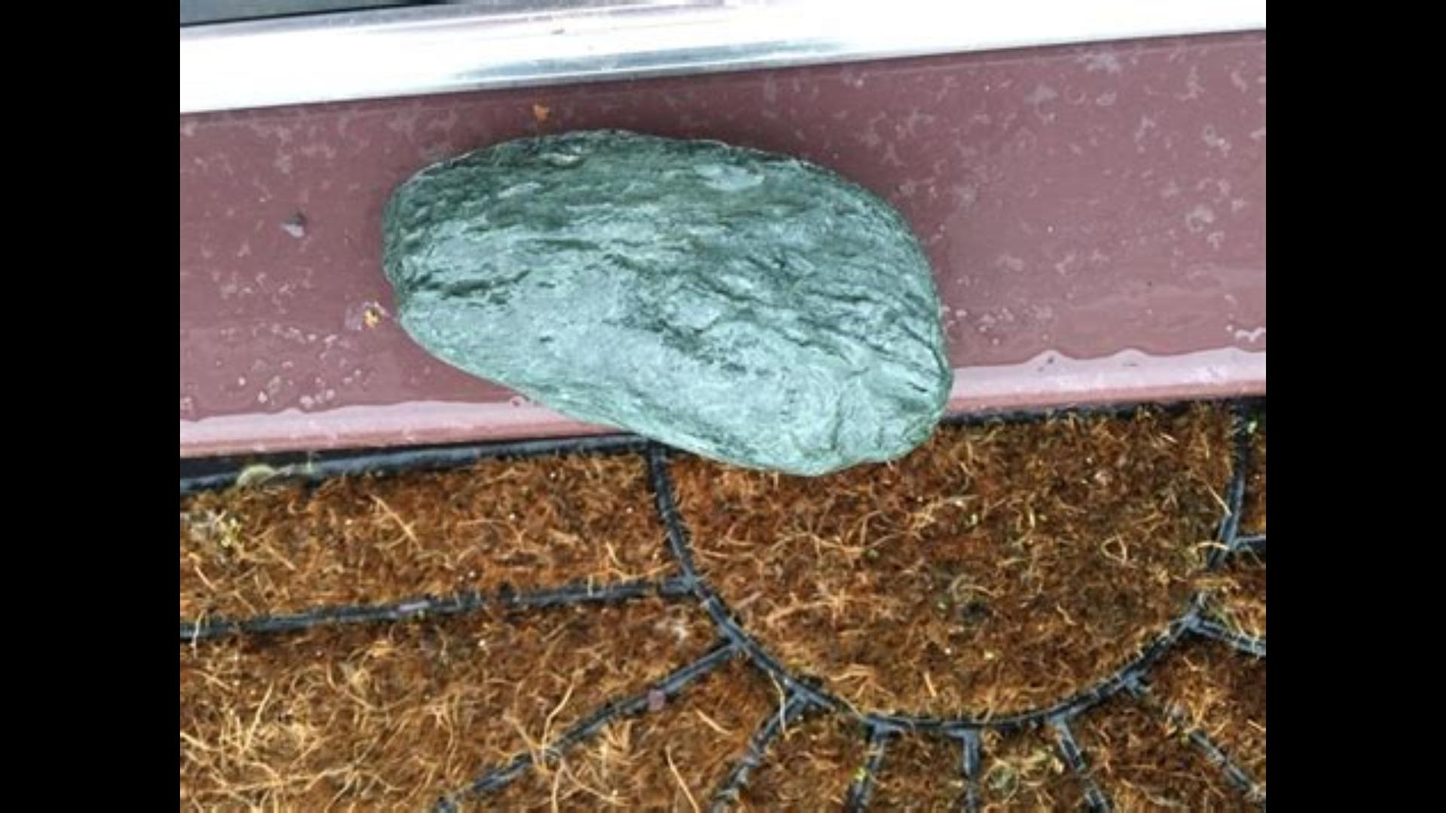rock: (384, 131, 945, 472)
